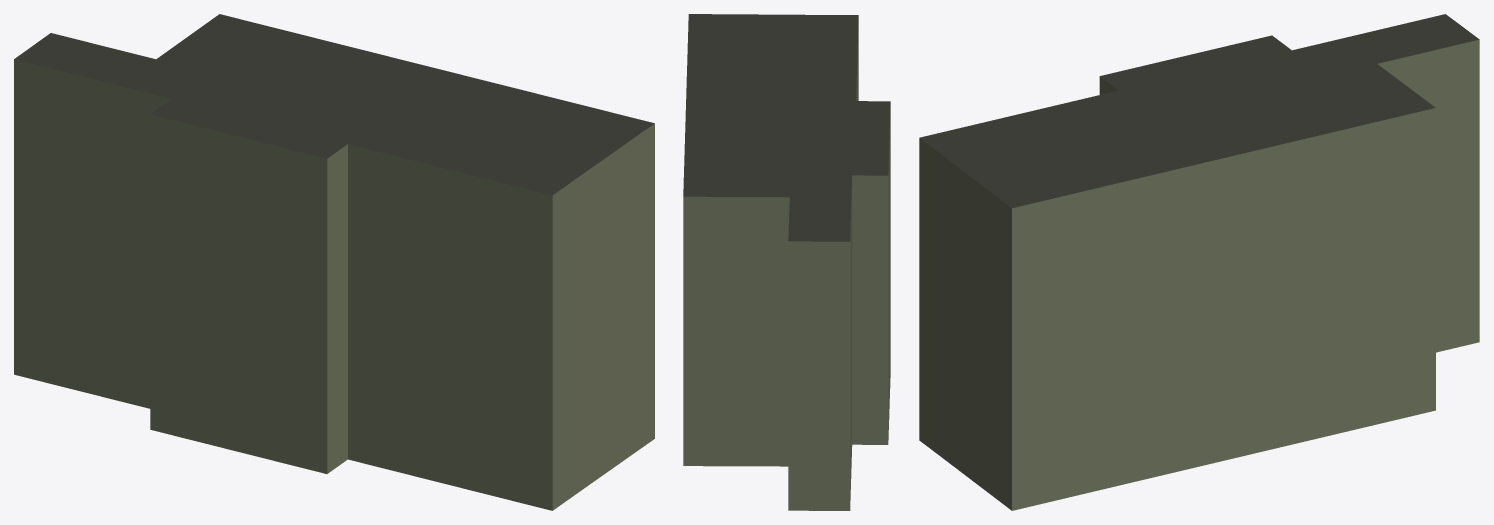
The model's file is nyc-1016054-0.glb.
The picture shows the model from 3 angles, left to right: view 1: azimuth 30°, elevation 25°; view 2: azimuth 150°, elevation 25°; view 3: azimuth 270°, elevation 25°; orthographic projection. The views are drawn at different scales.
Visible parts, largest first — view 1: nyc-1016054-0; view 2: nyc-1016054-0; view 3: nyc-1016054-0.
Part boxes in pixels (x1,y1,x2,y2): nyc-1016054-0: [14, 14, 654, 510]; nyc-1016054-0: [683, 14, 890, 510]; nyc-1016054-0: [919, 14, 1479, 510].
Size of the model in its own units: 22.87 by 16.61 by 27.88.
